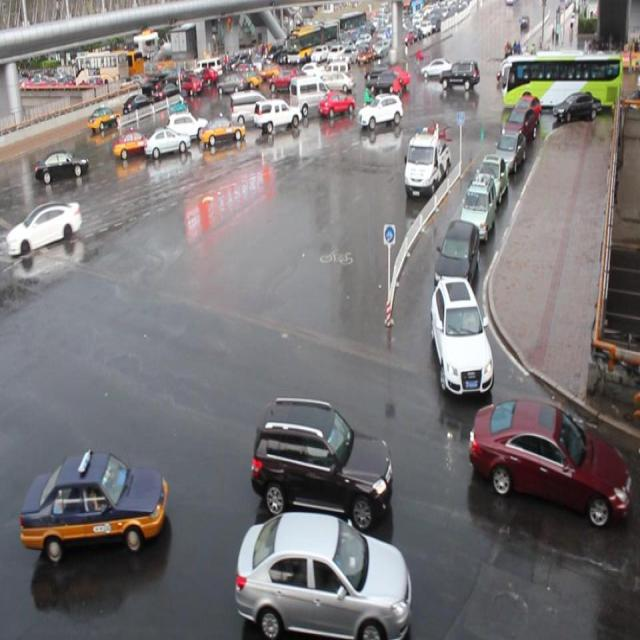bus: (403, 125, 450, 199)
car: (235, 509, 410, 640), (467, 397, 629, 525), (251, 395, 390, 527), (23, 450, 167, 560), (430, 276, 492, 392), (10, 201, 81, 255), (432, 218, 478, 290), (460, 173, 498, 242), (473, 150, 509, 208), (36, 146, 89, 184), (252, 96, 302, 133), (199, 112, 247, 150), (144, 126, 192, 160), (166, 108, 209, 144), (358, 93, 400, 129), (495, 124, 527, 170), (507, 106, 539, 150), (113, 129, 153, 158), (318, 90, 355, 117), (517, 94, 543, 132)
truck: (288, 75, 332, 115), (228, 90, 271, 128)
